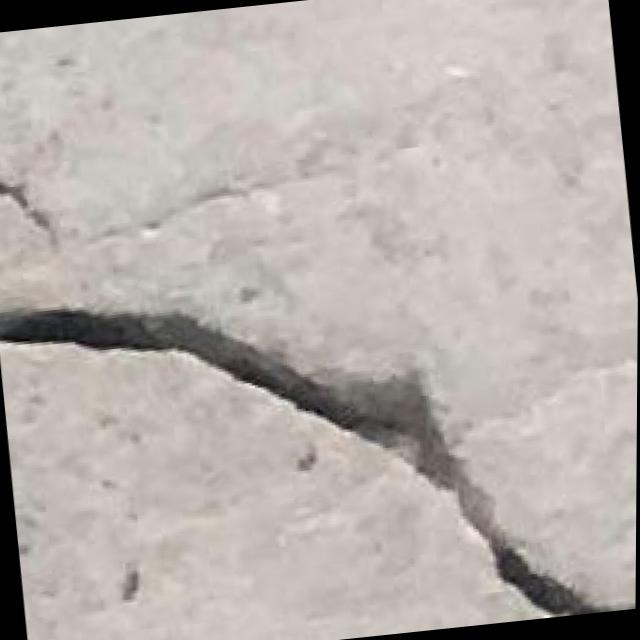Crack: (0, 245, 623, 640)
